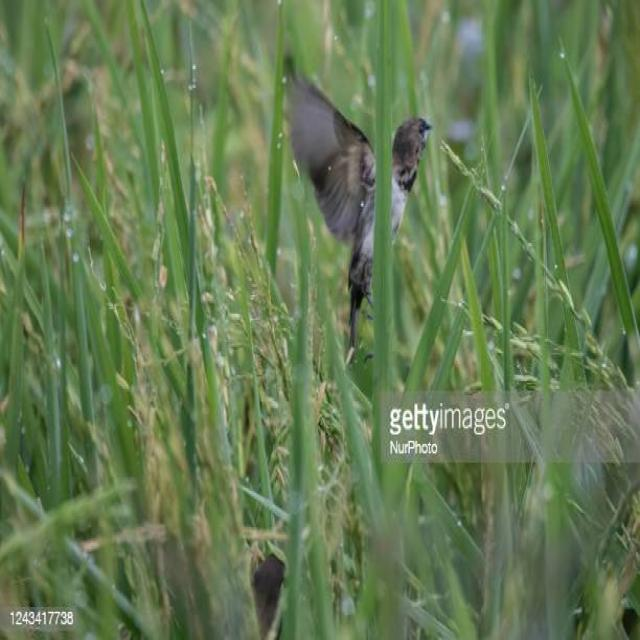bird: (284, 75, 436, 349)
